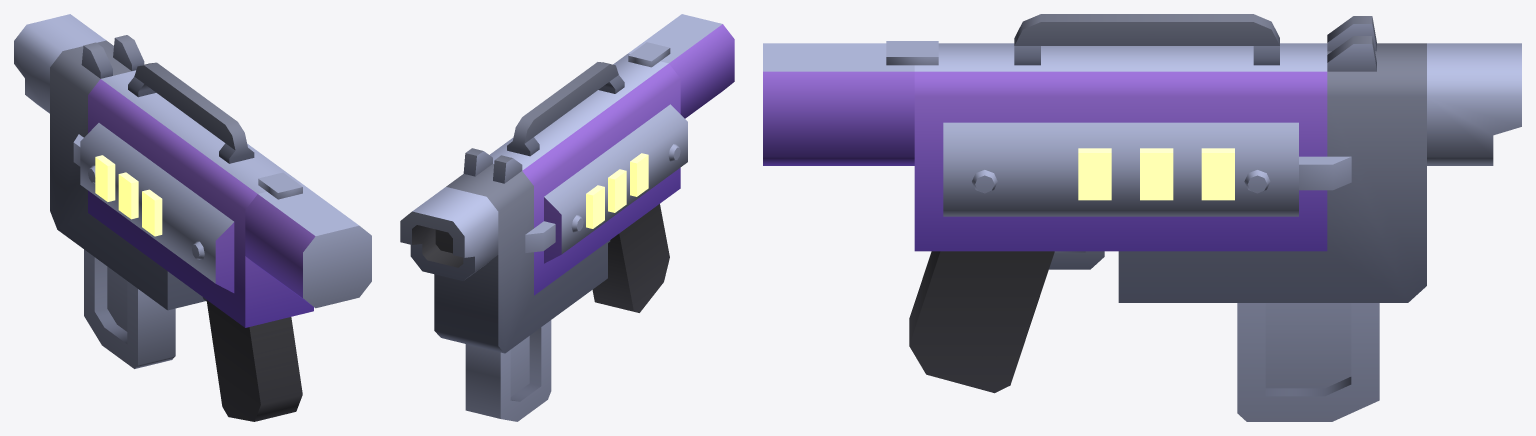
File: pulse-mk2.glb
3 views of the same model, side by side, from view 1: azimuth 30°, elevation 25°; view 2: azimuth 150°, elevation 25°; view 3: azimuth 270°, elevation 25° (orthographic). The views are drawn at different scales.
Parts seen in each view (by area): view 1: blaster-a, magazine, Energy_Cells; view 2: blaster-a, magazine, Energy_Cells; view 3: blaster-a, magazine, Energy_Cells.
Part boxes in pixels (<box>): blaster-a: <box>14,14,371,421</box>; magazine: <box>84,249,175,368</box>; Energy_Cells: <box>95,155,162,236</box>; blaster-a: <box>400,14,734,353</box>; magazine: <box>465,320,551,421</box>; Energy_Cells: <box>586,153,648,228</box>; blaster-a: <box>763,14,1521,393</box>; magazine: <box>1237,303,1379,421</box>; Energy_Cells: <box>1078,148,1234,200</box>.
Size of the model in its own units: 0.2 by 0.4559 by 0.8.
Materials: 2 (1 with a texture image).
